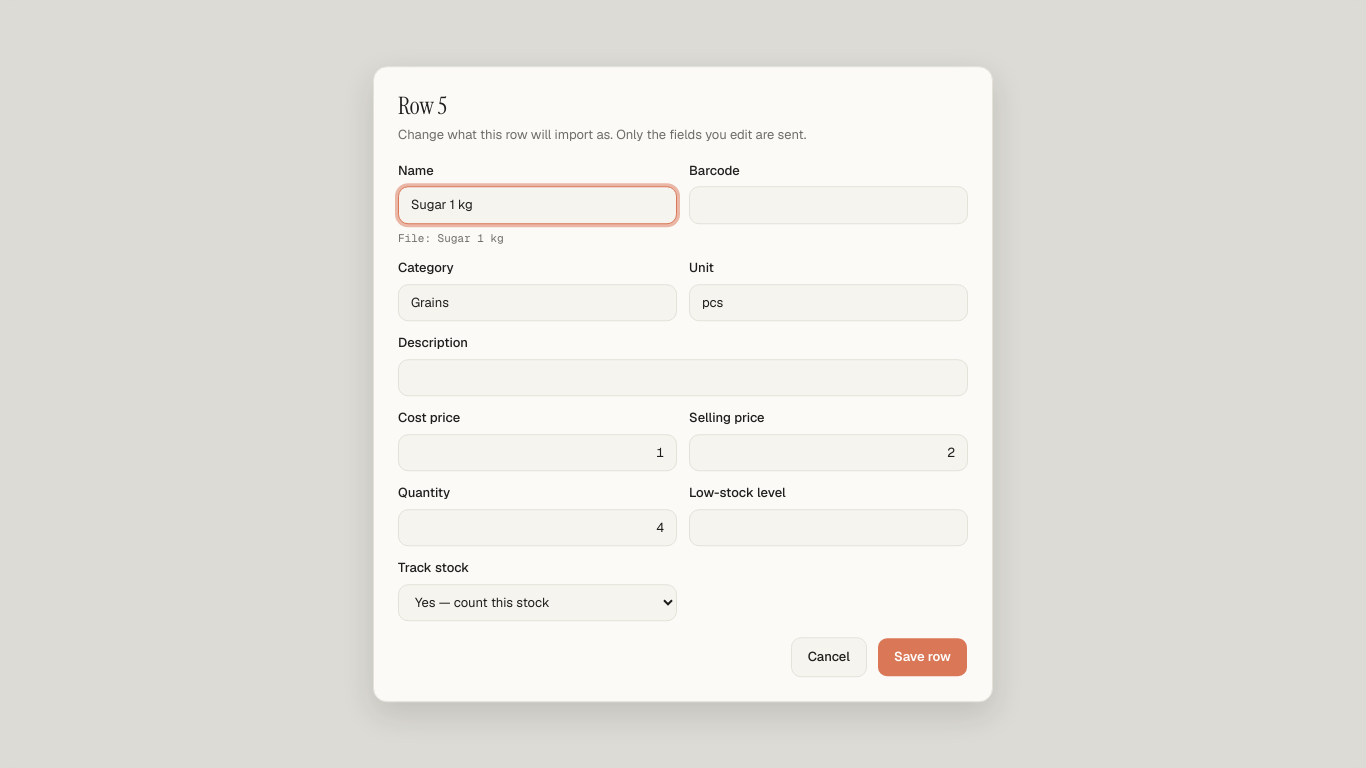
Test: FixRowDialog — the body it sends › refuses to send an empty body, which is now a genuine 422
Click the button "Save row" at (922, 657), box [877,637,968,677]
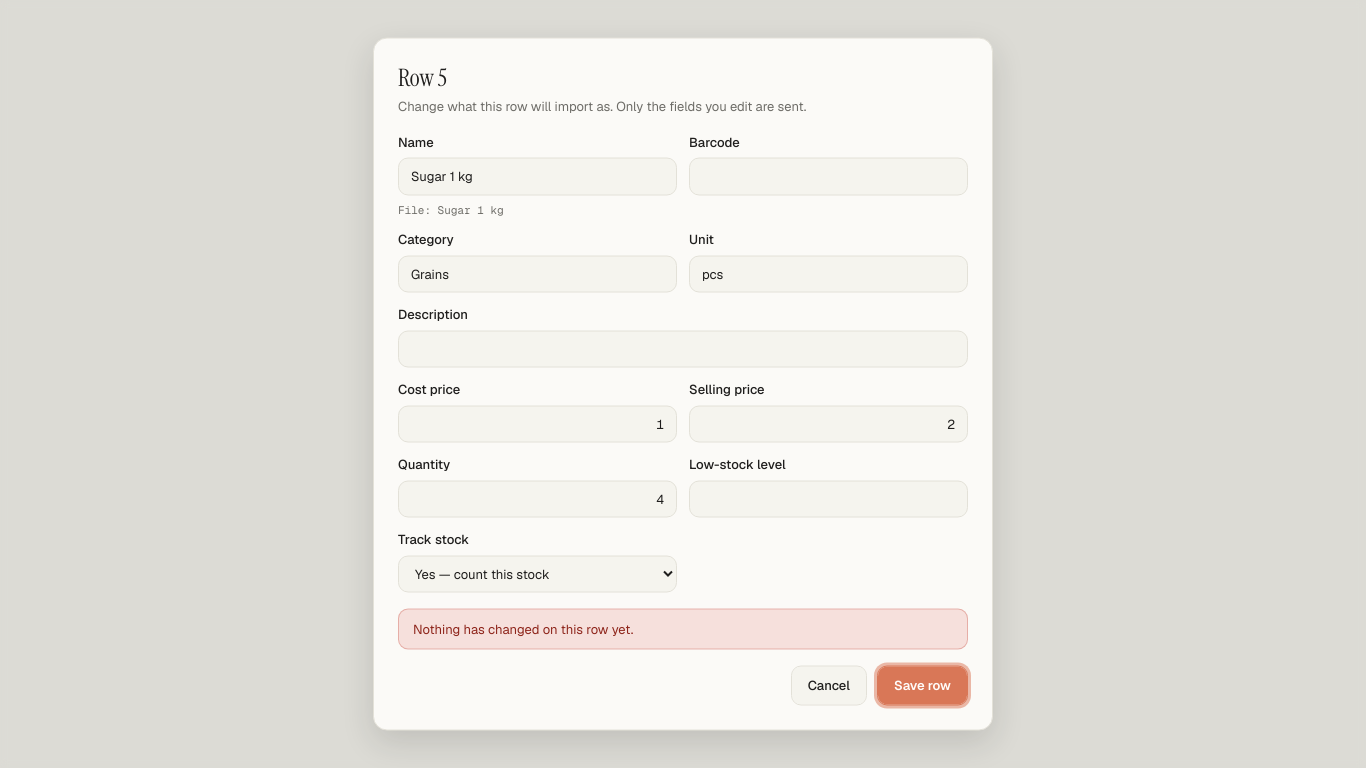
Now the text "Nothing has changed on this row yet." is shown, box [398,608,968,650]
